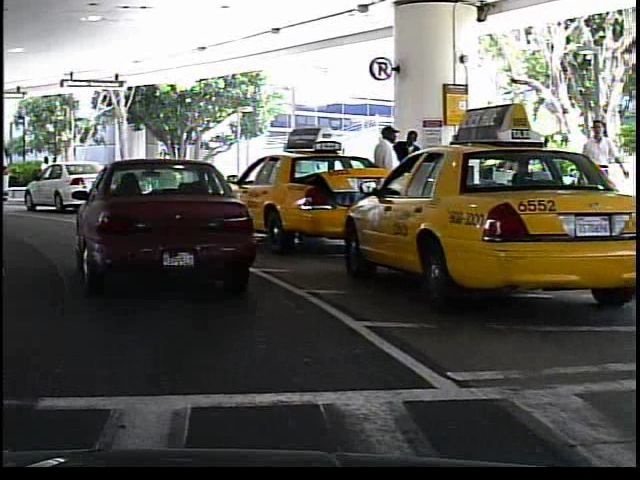person: (571, 114, 622, 236), (367, 124, 402, 236), (392, 124, 424, 227), (32, 151, 57, 195)
